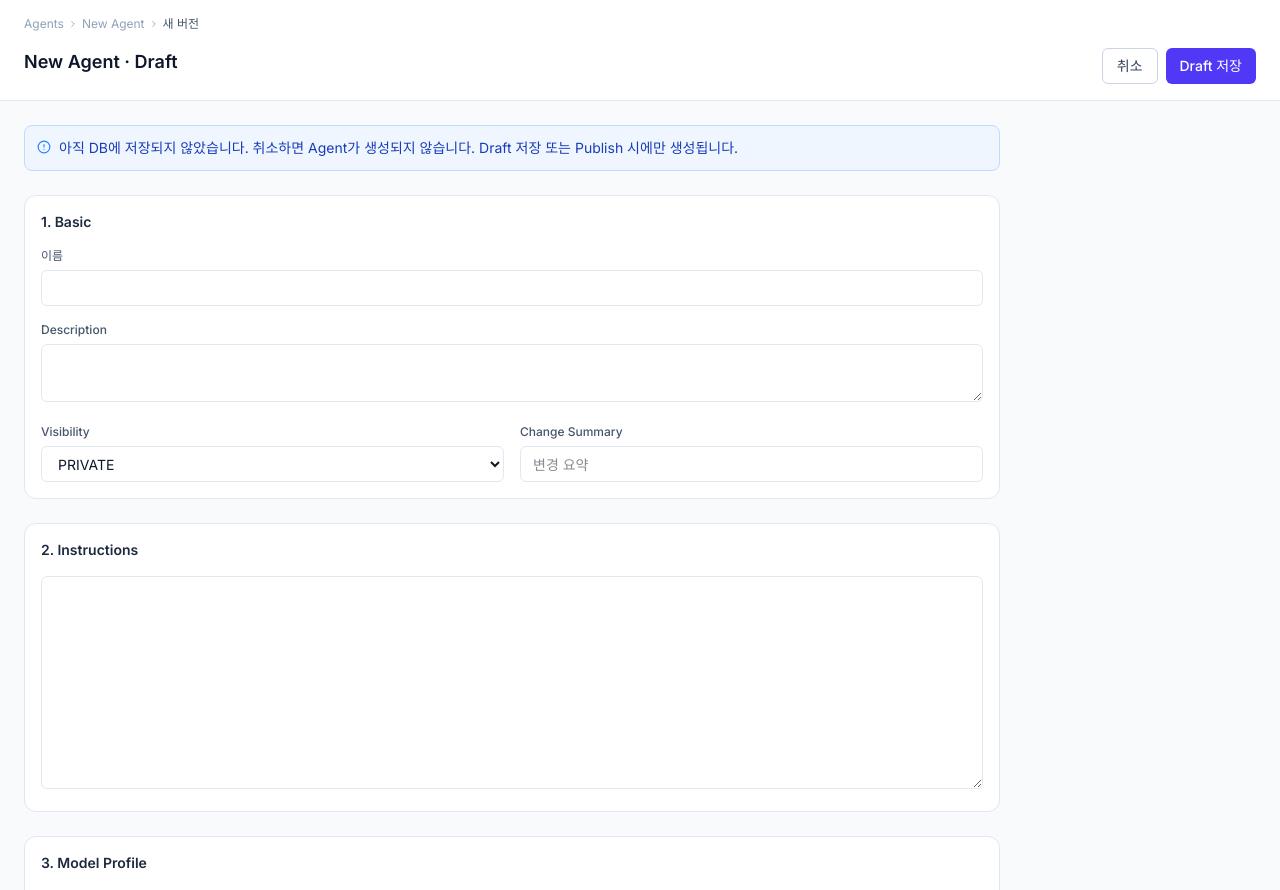
Test: AgentEdit persist / validate safety › keeps the editor open when cancel soft-delete fails so the user can retry
Check: the heading "New Agent · Draft" is shown, box [24, 48, 178, 76]
Type "Stuck Agent" into the 1st field at (512, 288), box [41, 270, 983, 306]
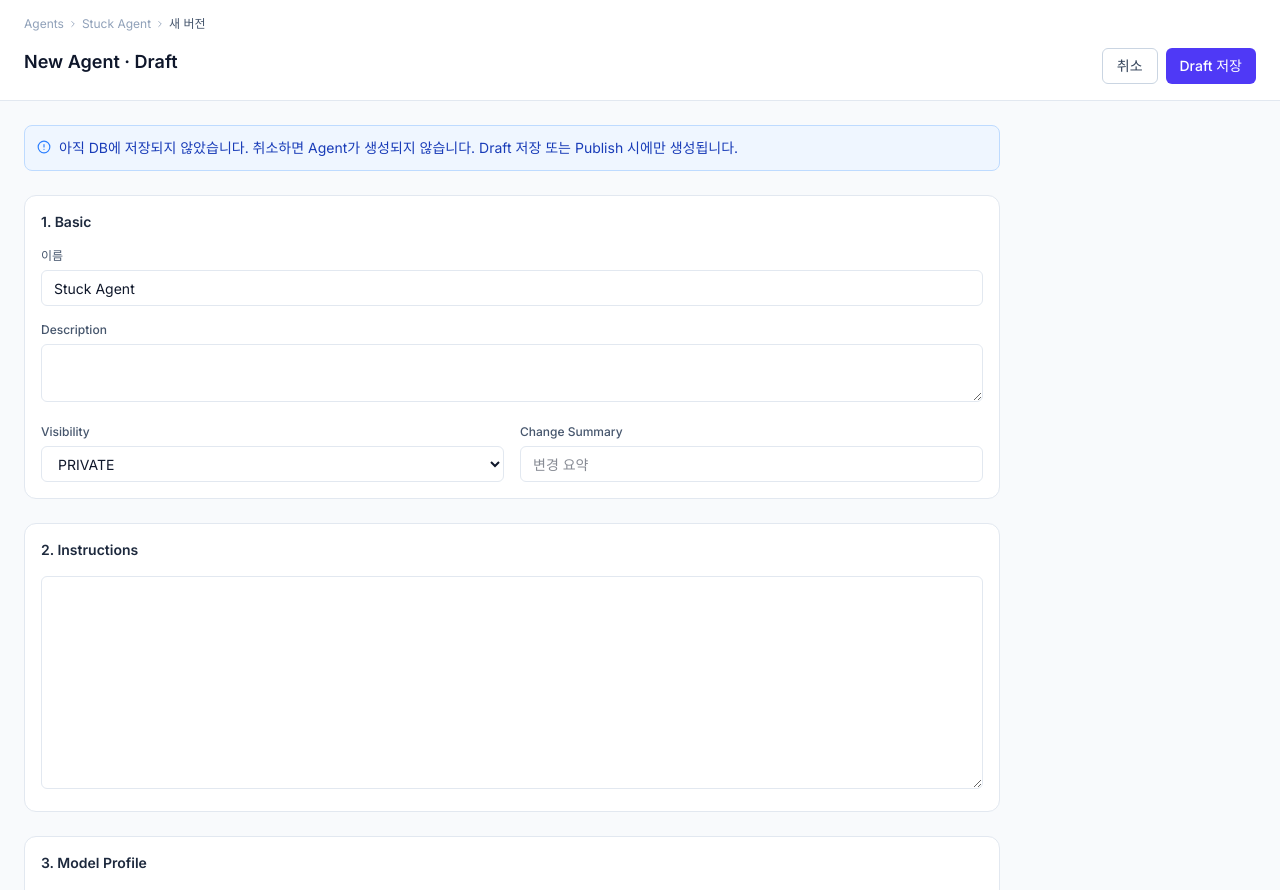
Type "stuck instructions" into the text box below "2. Instructions" at (512, 682), box [41, 576, 983, 789]
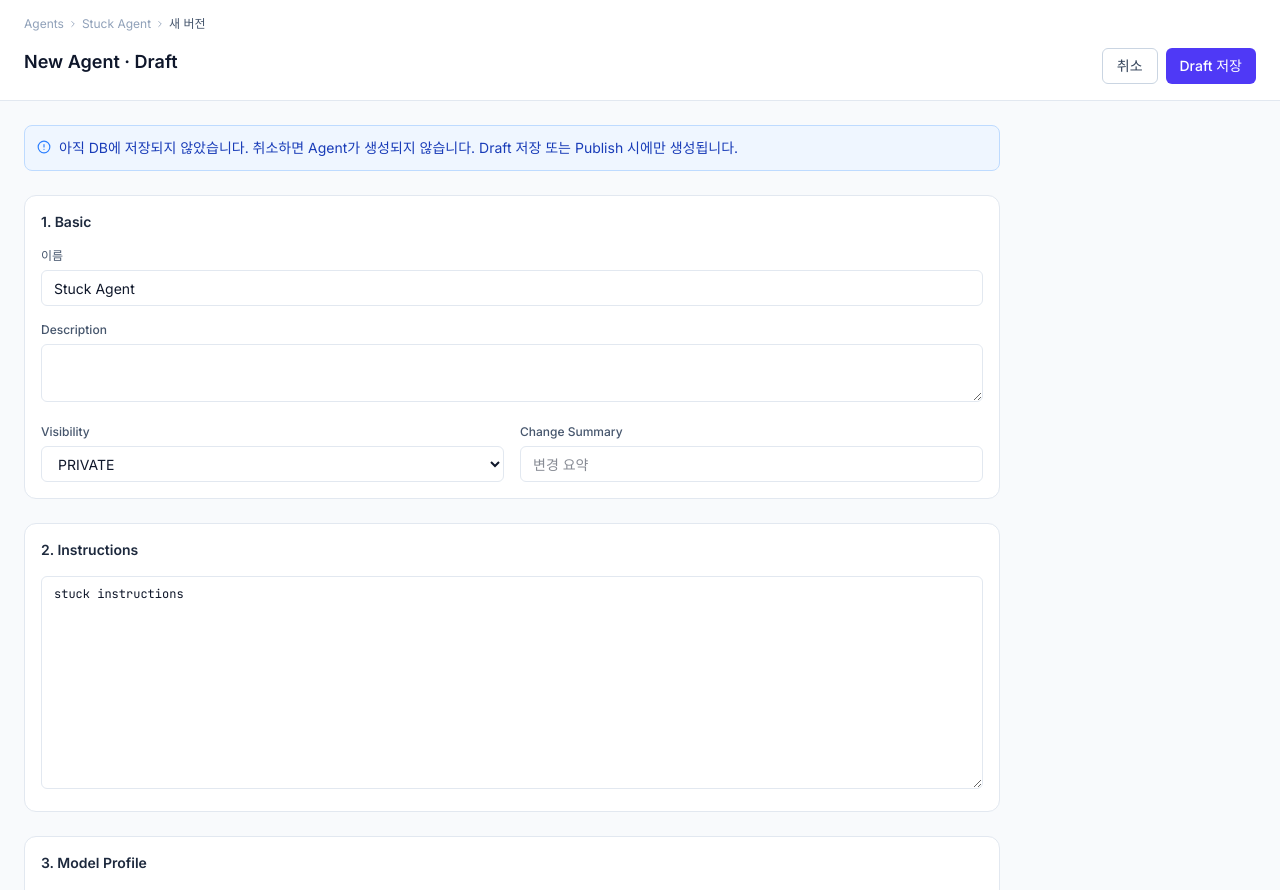
Click the button "Draft 저장" at (1211, 66), box [1166, 48, 1256, 84]
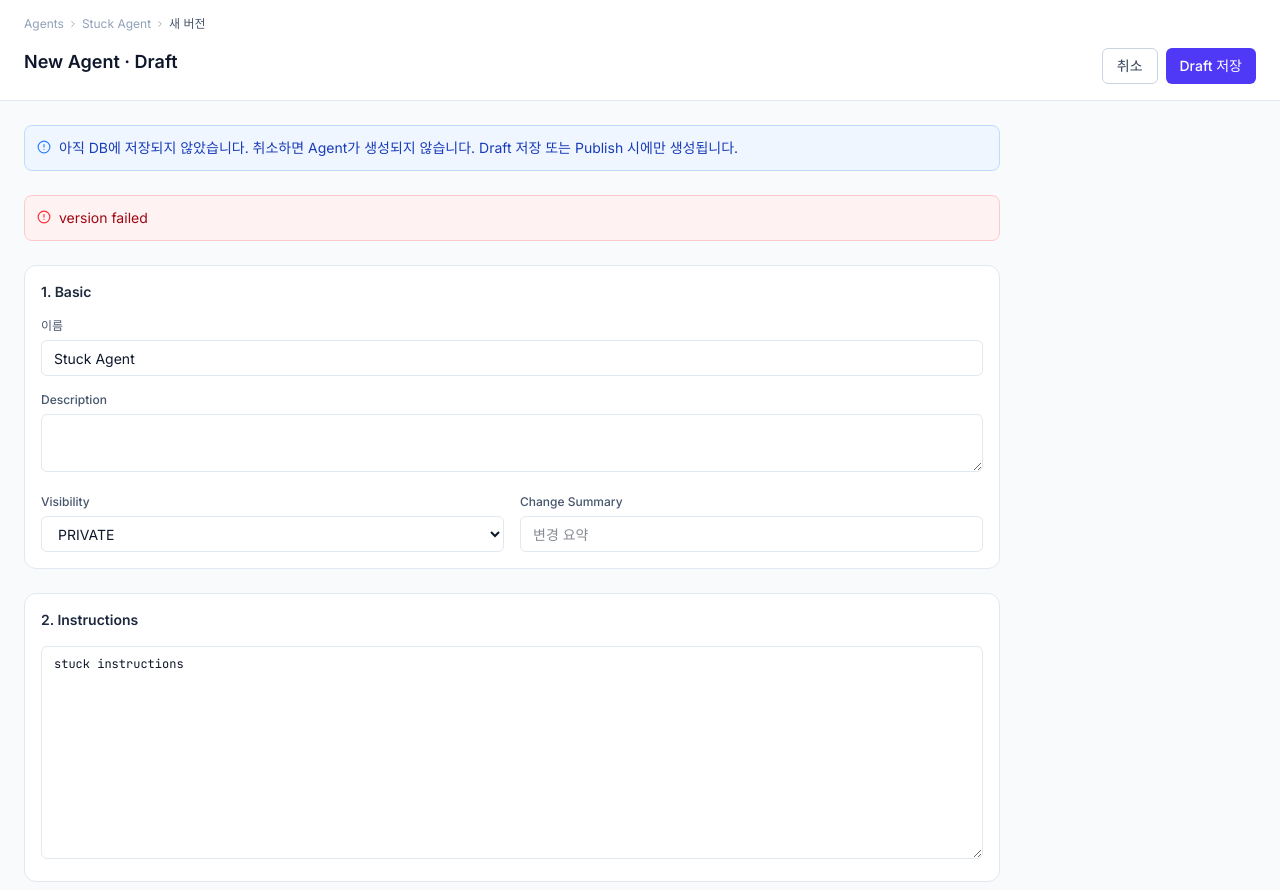
Check: the text "version failed" is shown, box [59, 208, 148, 228]
Click the button "취소" at (1130, 66), box [1102, 48, 1158, 84]
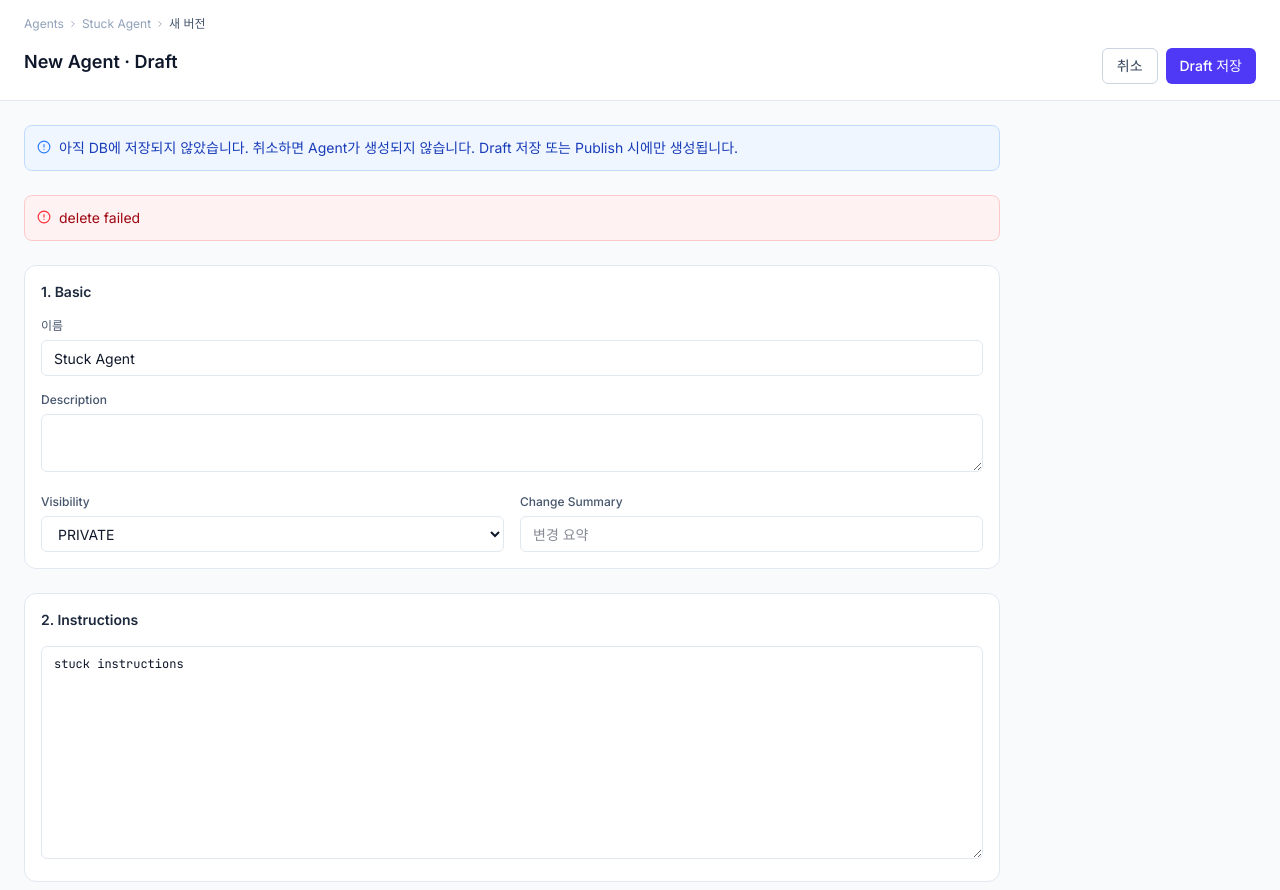
Check: the heading "New Agent · Draft" is shown, box [24, 48, 178, 76]
Check: the text "delete failed" is shown, box [59, 208, 140, 228]
